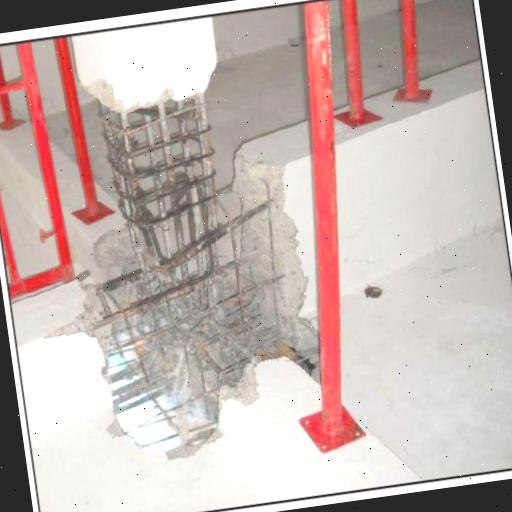spalling: (88, 84, 264, 370)
